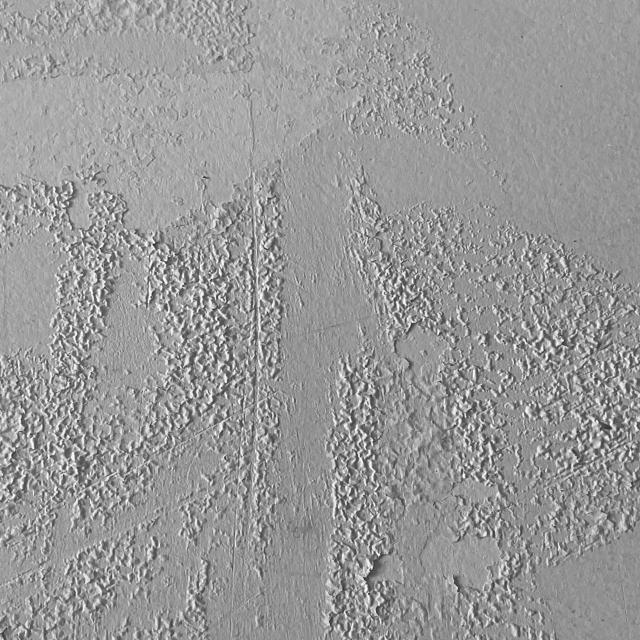rough and patchy surface: (0, 0, 284, 640), (325, 155, 640, 640), (312, 0, 511, 154)
